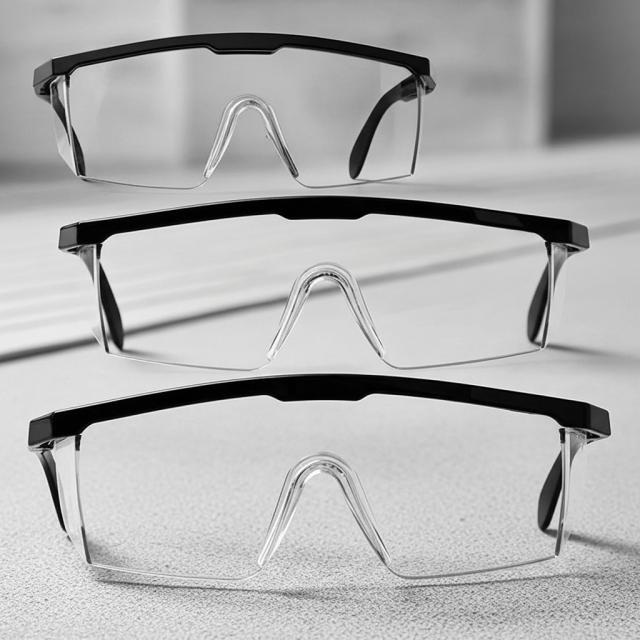oculos-epi: (29, 374, 596, 581), (59, 196, 579, 369), (34, 34, 434, 188)
